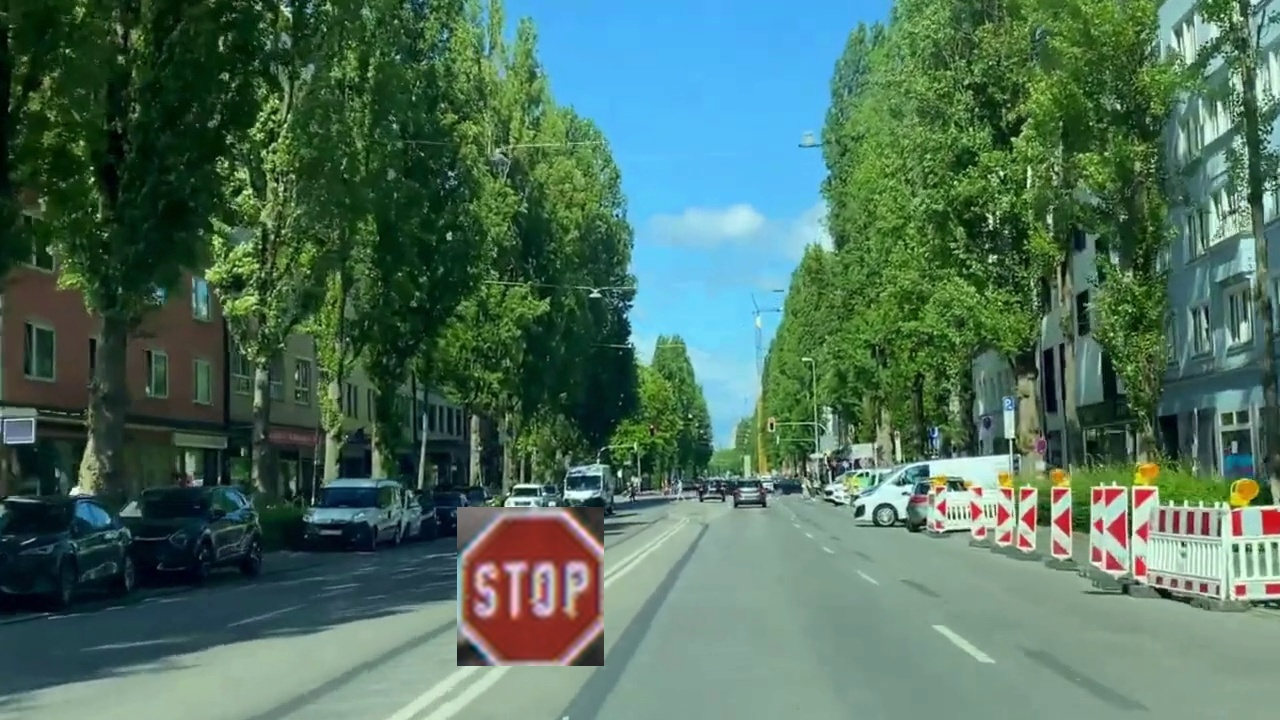Stop: (457, 507, 604, 666)
